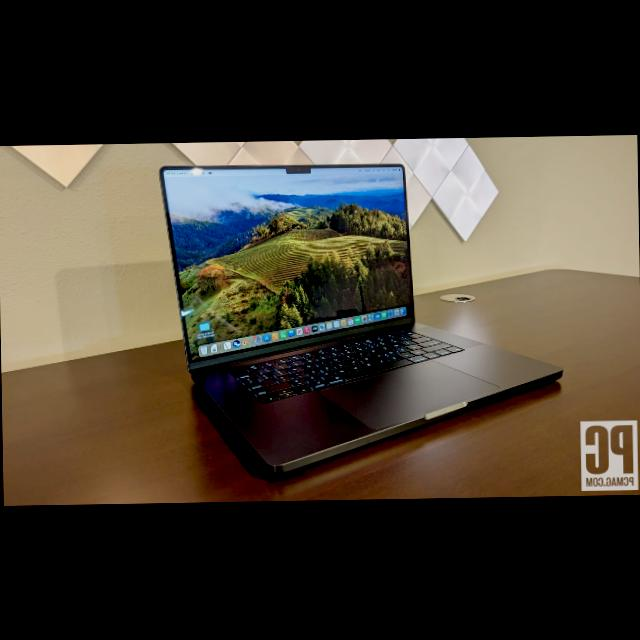laptop: (147, 151, 577, 464)
